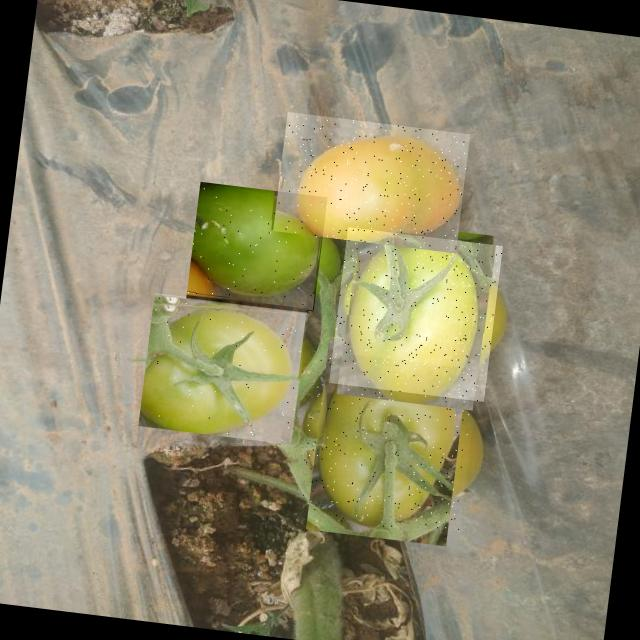Unripe Tomato: (294, 350, 479, 536), (328, 226, 502, 402), (272, 111, 470, 253), (138, 290, 308, 444), (186, 181, 326, 311)
